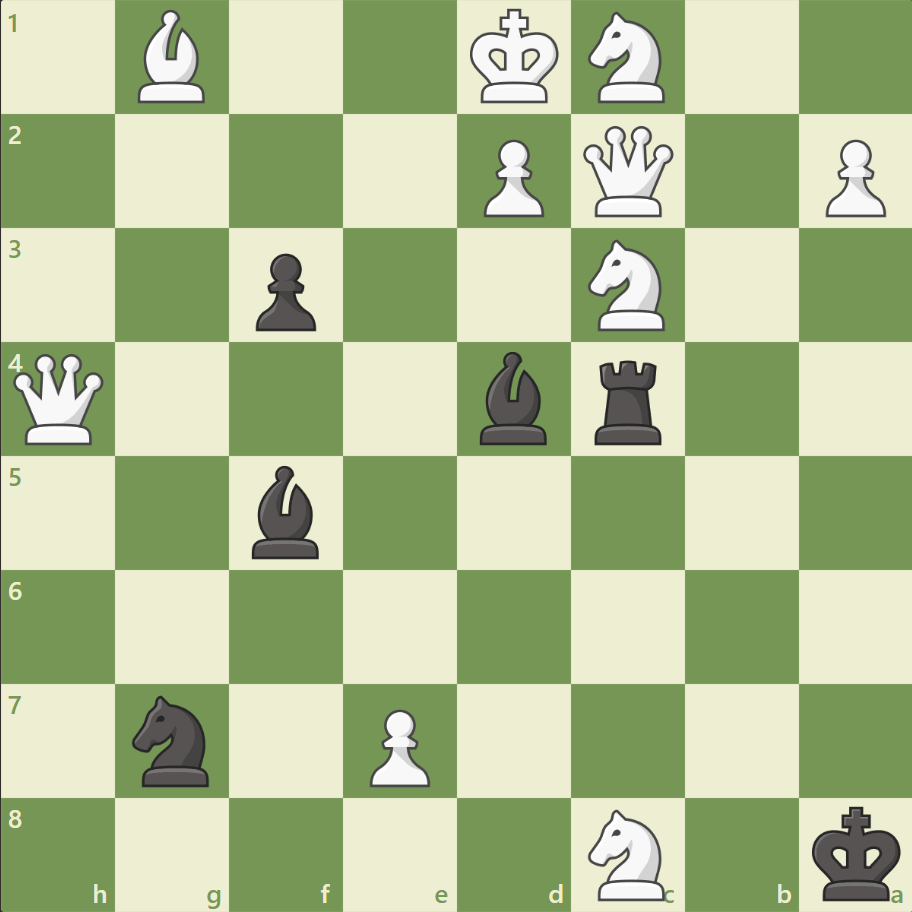B: (131, 6, 215, 109)
K: (465, 4, 565, 112)
N: (579, 234, 676, 337), (579, 7, 676, 110), (579, 802, 676, 904)
P: (474, 132, 549, 223), (361, 700, 435, 791), (815, 132, 889, 223)
Q: (10, 349, 109, 449), (578, 122, 677, 222)
b: (244, 460, 328, 563), (471, 347, 555, 449)
k: (806, 798, 906, 906)
n: (124, 688, 222, 791)
p: (247, 246, 322, 337)
r: (587, 352, 670, 449)
